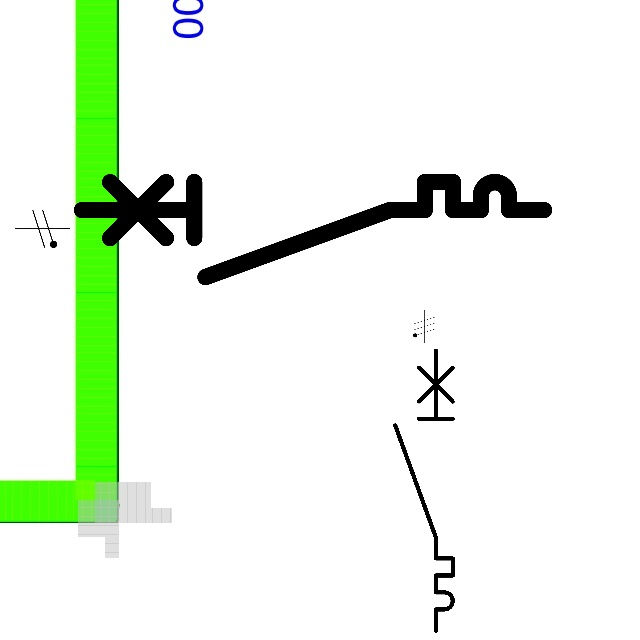interruptor_termomagnetico: (69, 170, 555, 289), (388, 343, 460, 638)
